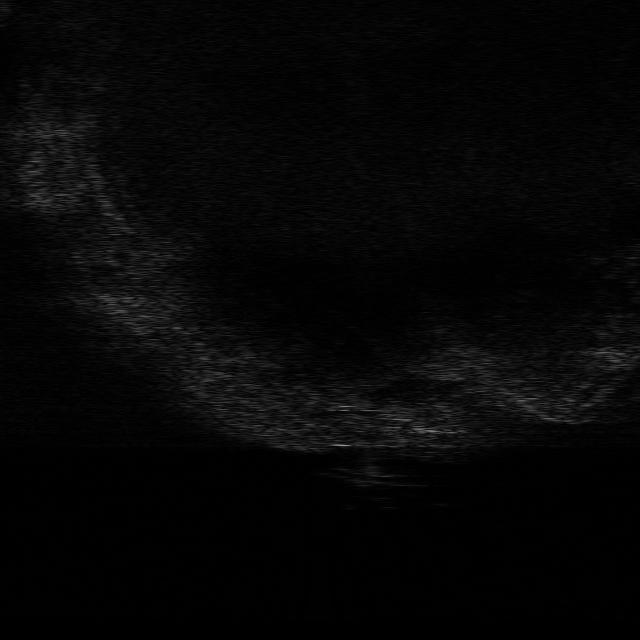plane: (323, 465, 425, 491)
